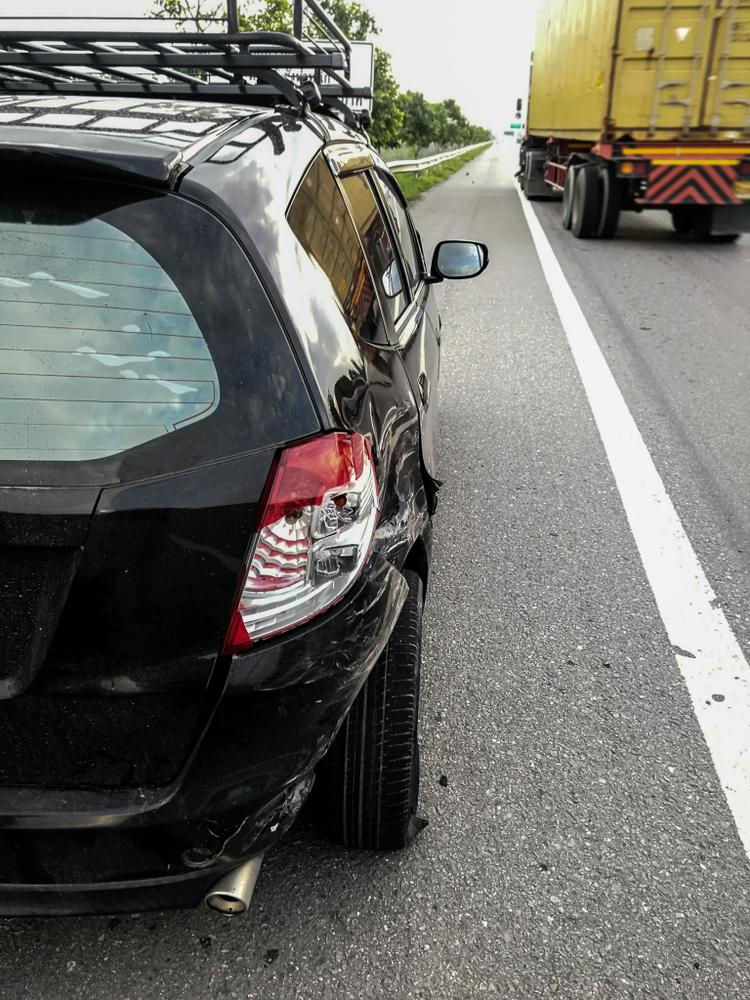dent: (343, 382, 423, 541)
lamp broken: (221, 428, 378, 657)
